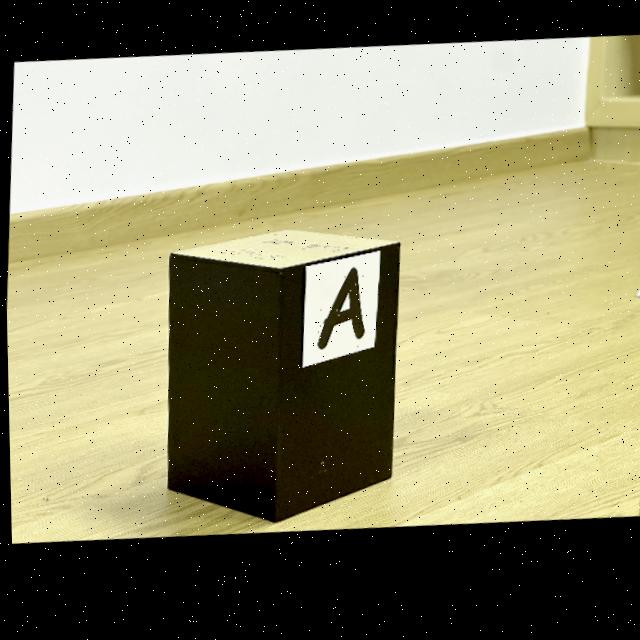A: (316, 275, 363, 356)
